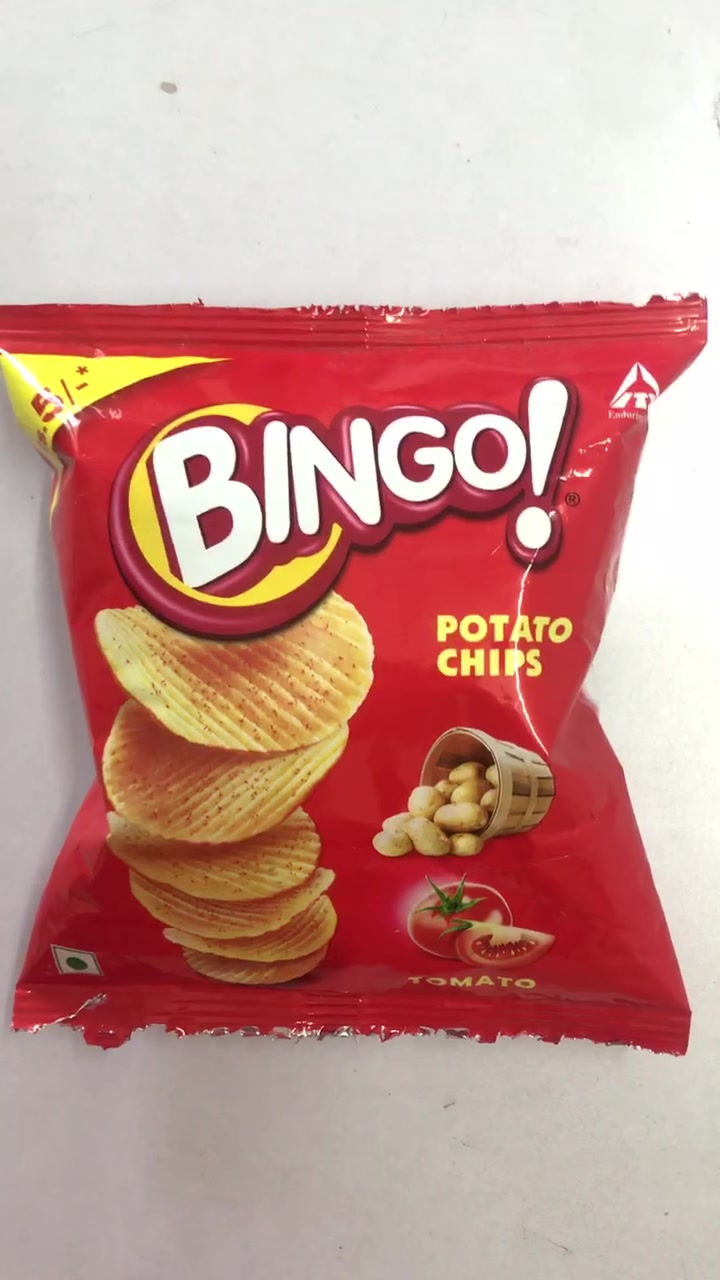Bingo: (3, 307, 698, 1053)
